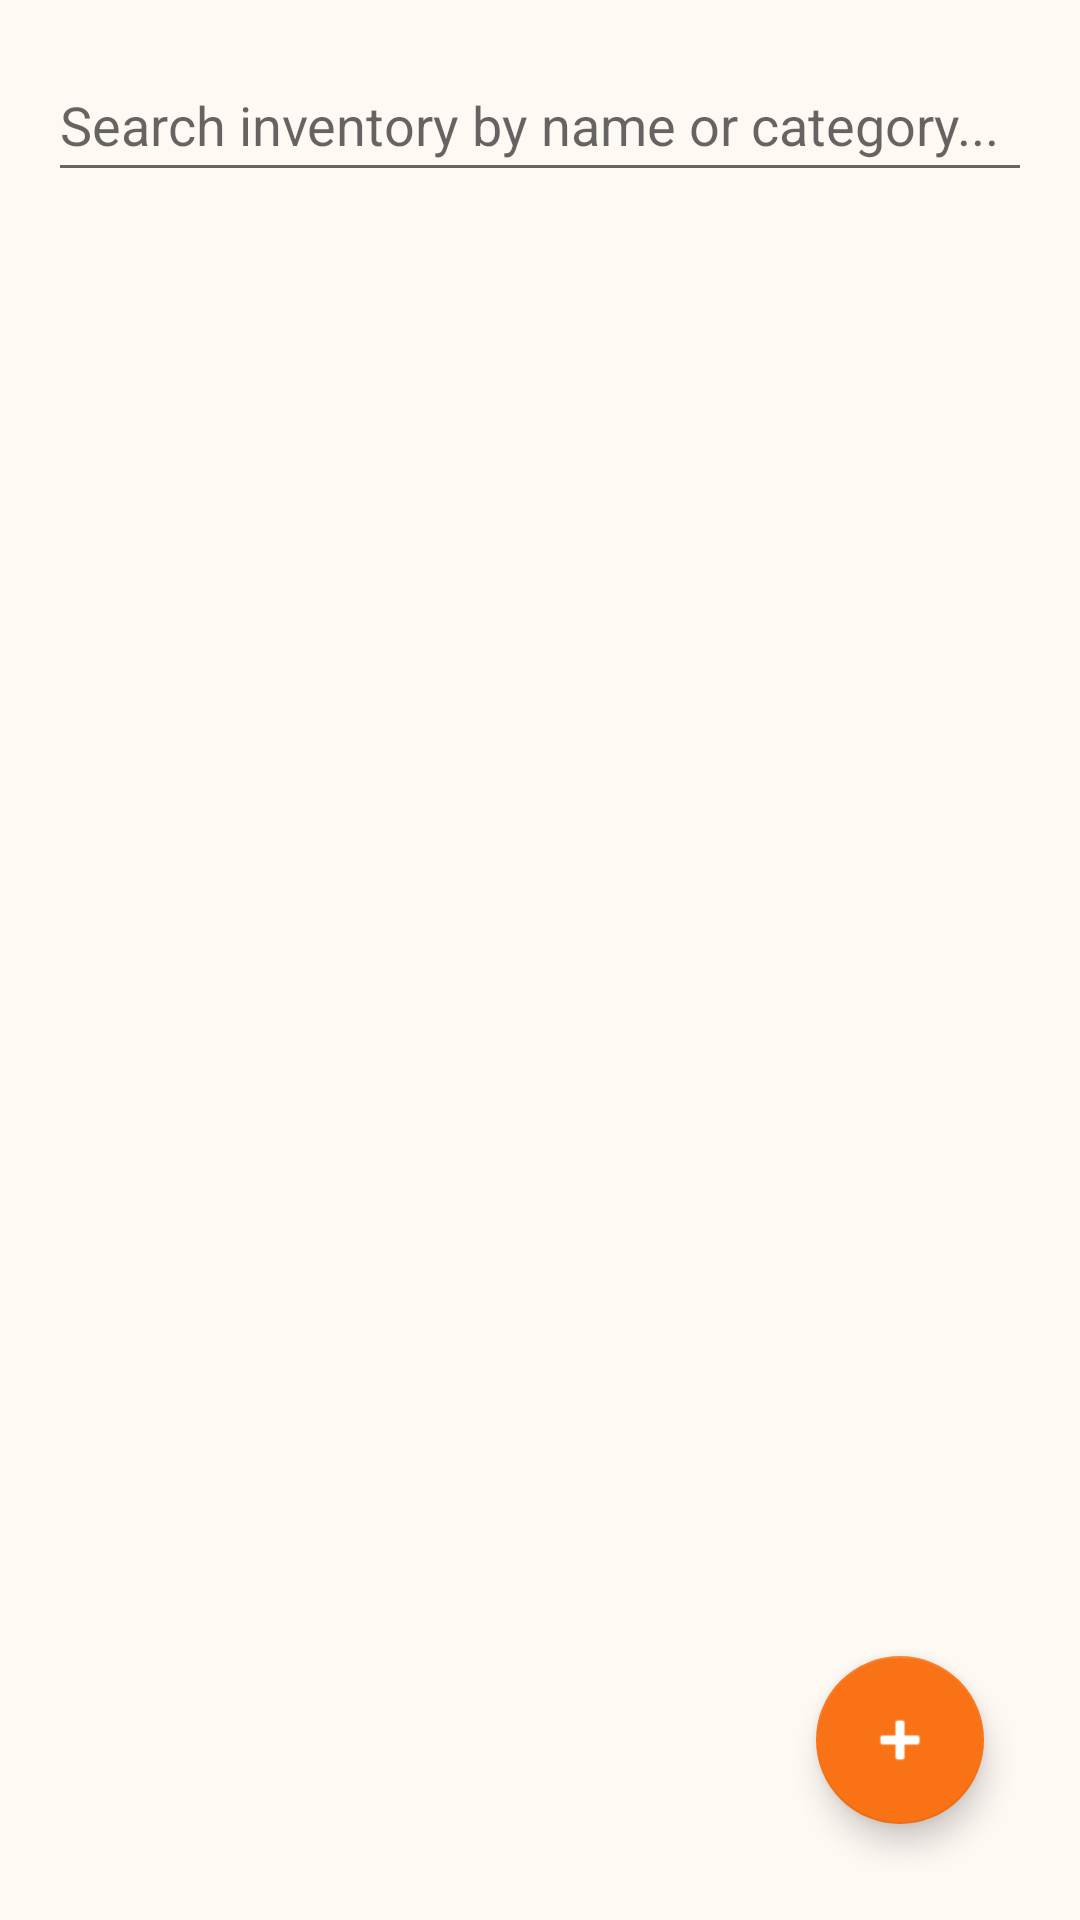

Icon bounding boxes for this 1080px x 1920px phone screenshot, format BBox(x1, y1, x2, y2):
Add Food Item: BBox(816, 1656, 984, 1824)
